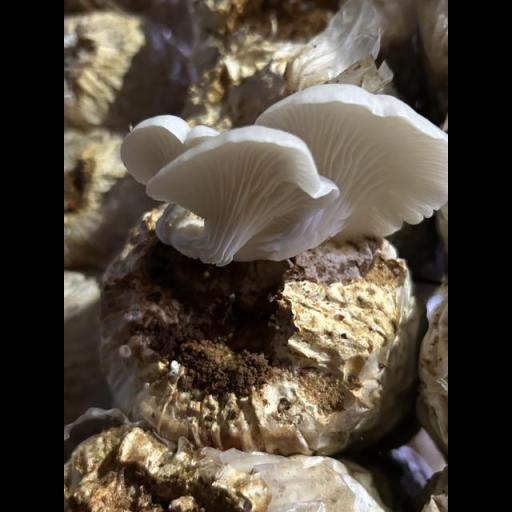White Oyster Mushroom: (124, 79, 444, 262)
